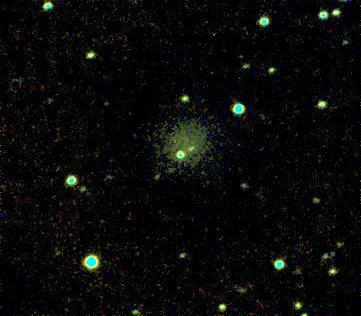star: (226, 45, 256, 75)
